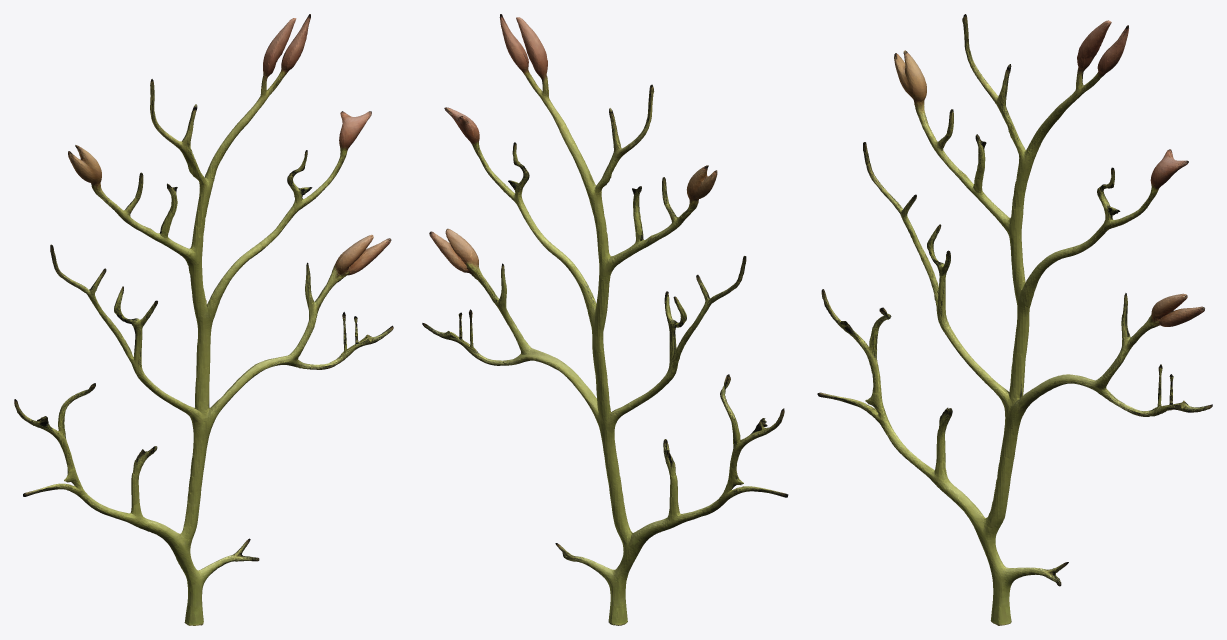
The picture shows the model from 3 angles, left to right: view 1: azimuth 30°, elevation 25°; view 2: azimuth 150°, elevation 25°; view 3: azimuth 330°, elevation 25°; orthographic projection. The views are drawn at different scales.
Parts seen in each view (by area): view 1: world; view 2: world; view 3: world.
Boxes of the visible parts, bbox=[...] form: world: bbox=[14, 14, 393, 625]; world: bbox=[422, 14, 788, 625]; world: bbox=[817, 14, 1212, 625].
Bounding box in the file's own units: 0.6683 × 1 × 0.0737.
Materials: 1 (1 with a texture image).
